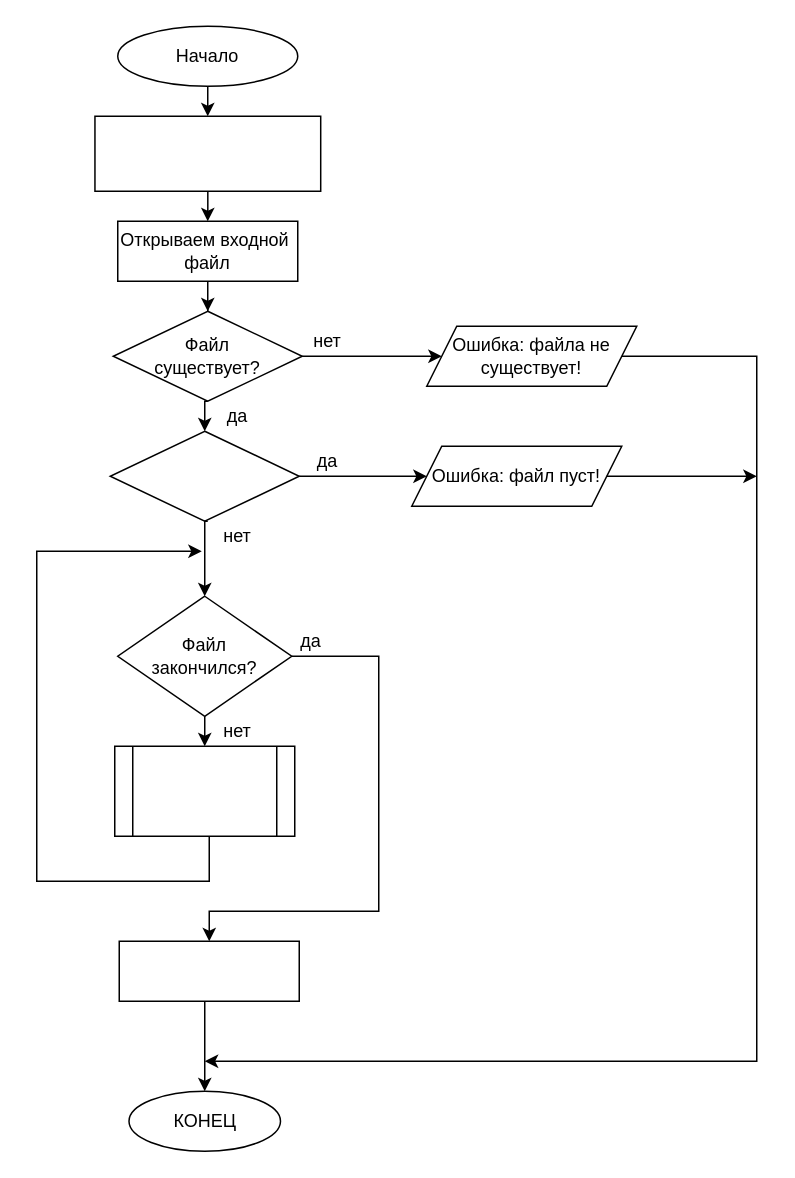
Some shapes in this 795 by 1178 pixel diagram are drawn without their labels. The centre of each missing label's shape, as x and y in pixels:
"Введение переменных, буффера для считывания строк, количества слов" goes at pixel 207 153.
"Закрываем выходной файл" goes at pixel 208 970.
"Обработка строки" goes at pixel 204 790.
"Файл пуст?" goes at pixel 204 475.
